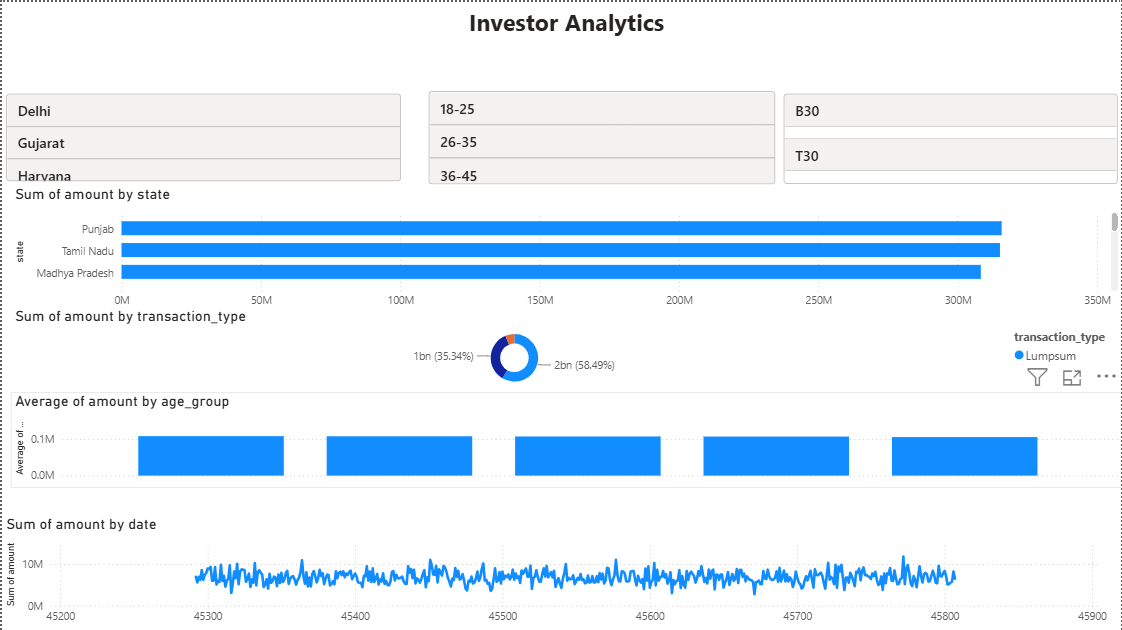

The dashboard page shown, as its layout file describes it:
{"tool":"powerbi","page":{"name":"Investor Analytics","canvas":[1280,720],"ordinal":2},"visuals":[{"type":"cardVisual","fields":{"Rows":["Sheet1 (8).state"]},"box":[0,79.6,461.1,150.9],"z":0},{"type":"textbox","box":[1030.5,96.1,181.1,12.3],"z":1000},{"type":"textbox","box":[9.6,0,1270.7,79.6],"z":2000},{"type":"cardVisual","fields":{"Rows":["Sheet1 (8).age_group"]},"box":[483,76.8,406.2,156.4],"z":3000},{"type":"cardVisual","fields":{"Rows":["Sheet1 (8).city_tier"]},"box":[889.2,79.6,391.1,153.7],"z":4000},{"type":"clusteredBarChart","fields":{"Category":["Sheet1 (8).state"],"Y":["Sum(Sheet1 (8).amount)"]},"box":[9.6,208.6,1270.7,150.9],"z":5000},{"type":"donutChart","fields":{"Category":["Sheet1 (8).transaction_type"],"Y":["Sum(Sheet1 (8).amount)"]},"box":[9.6,348.5,1270.7,97.4],"z":6000},{"type":"clusteredColumnChart","fields":{"Category":["Sheet1 (8).age_group"],"Y":["Avg(Sheet1 (8).amount)"]},"box":[9.6,446,1270.7,109.8],"z":7000},{"type":"lineChart","fields":{"Category":["Sheet1 (8).date"],"Y":["Sum(Sheet1 (8).amount)"]},"box":[0,585.9,1267.9,134.5],"z":8000}]}

Visuals, with their boxes in screenshot pixels (x1, y1, x2, y2), scaled from the page's 1280x720 canvas onto the 1122x630 screenshot:
cardVisual - Sheet1 (8).state: <region>0, 70, 404, 202</region>
textbox: <region>903, 84, 1062, 95</region>
textbox: <region>8, 0, 1121, 70</region>
cardVisual - Sheet1 (8).age_group: <region>423, 67, 779, 204</region>
cardVisual - Sheet1 (8).city_tier: <region>779, 70, 1121, 204</region>
clusteredBarChart - Sheet1 (8).state x Sum(Sheet1 (8).amount): <region>8, 183, 1121, 315</region>
donutChart - Sheet1 (8).transaction_type x Sum(Sheet1 (8).amount): <region>8, 305, 1121, 390</region>
clusteredColumnChart - Sheet1 (8).age_group x Avg(Sheet1 (8).amount): <region>8, 390, 1121, 486</region>
lineChart - Sheet1 (8).date x Sum(Sheet1 (8).amount): <region>0, 513, 1111, 629</region>
